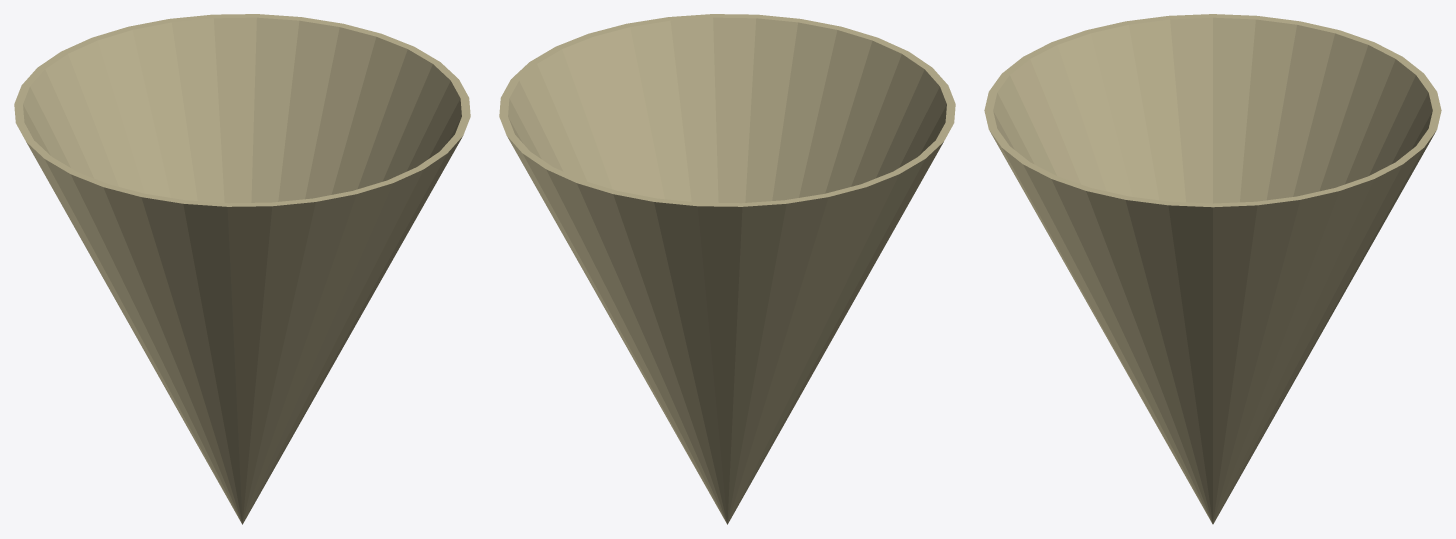
3 renders of one model, left to right at view 1: azimuth 30°, elevation 25°; view 2: azimuth 150°, elevation 25°; view 3: azimuth 270°, elevation 25°, orthographic.
Parts seen in each view (by area): view 1: Cone_WP; view 2: Cone_WP; view 3: Cone_WP.
Boxes of the visible parts, x1,y1,x2,y2 form: Cone_WP: (14, 14, 470, 524); Cone_WP: (499, 14, 955, 524); Cone_WP: (984, 14, 1441, 524).
Bounding box in the file's own units: 0.391 × 0.391 × 0.391.
